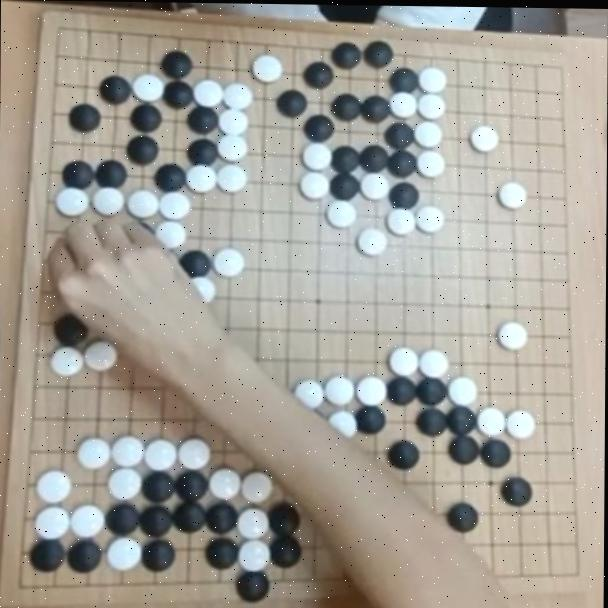corners: (0, 557, 51, 608), (40, 12, 84, 51), (536, 51, 578, 89), (554, 552, 592, 593)
